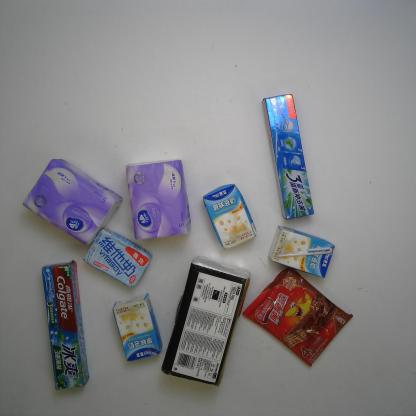Dessert: (238, 263, 356, 371)
Milk: (81, 226, 155, 290), (201, 182, 258, 251), (109, 291, 163, 363), (267, 224, 336, 280)
Personal Hygiene: (260, 90, 316, 222), (38, 258, 91, 392)
Tissue: (159, 252, 254, 390), (19, 158, 124, 247), (124, 157, 192, 242)
